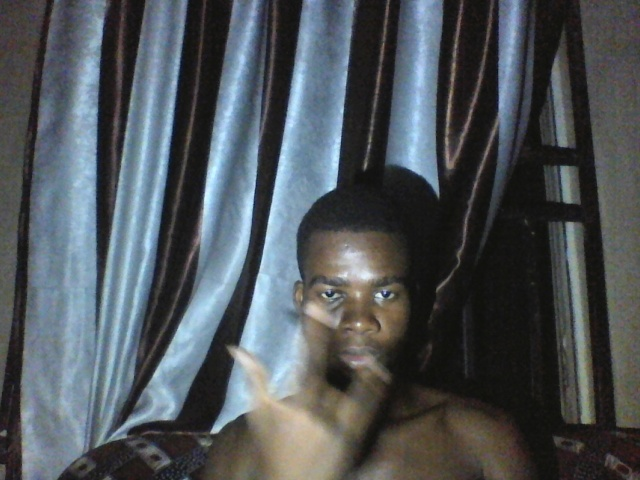i love you: (220, 300, 398, 480)
